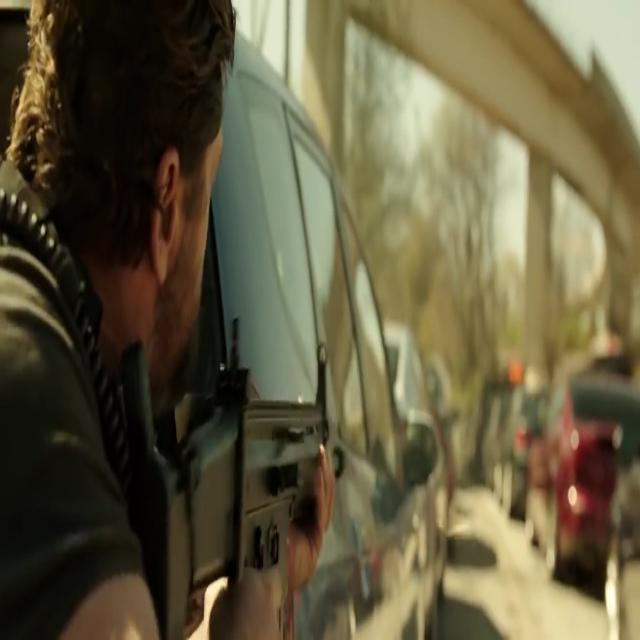Weapon: (91, 288, 385, 634)
